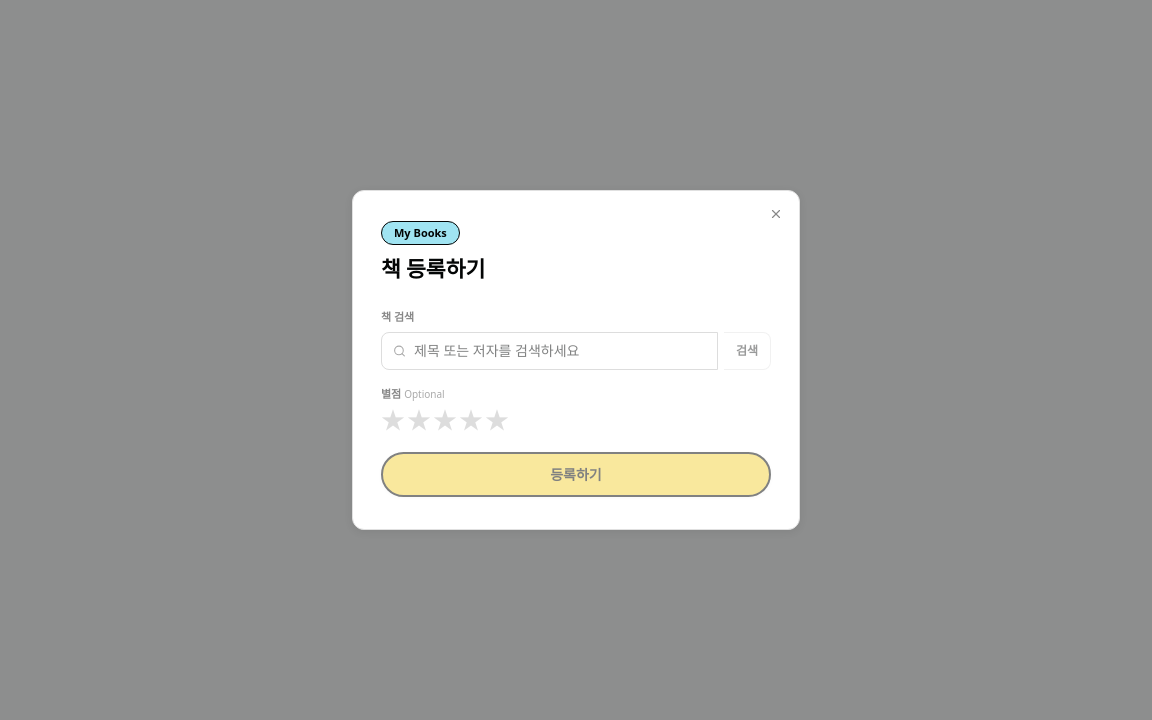
RegisterBookPopup › shows search results dropdown after searching
Type "해리포터" into the field with placeholder "제목 또는 저자를 검색하세요".
click(549, 351); type("해리포터")  # box top-left (381, 332), bottom-right (718, 370)
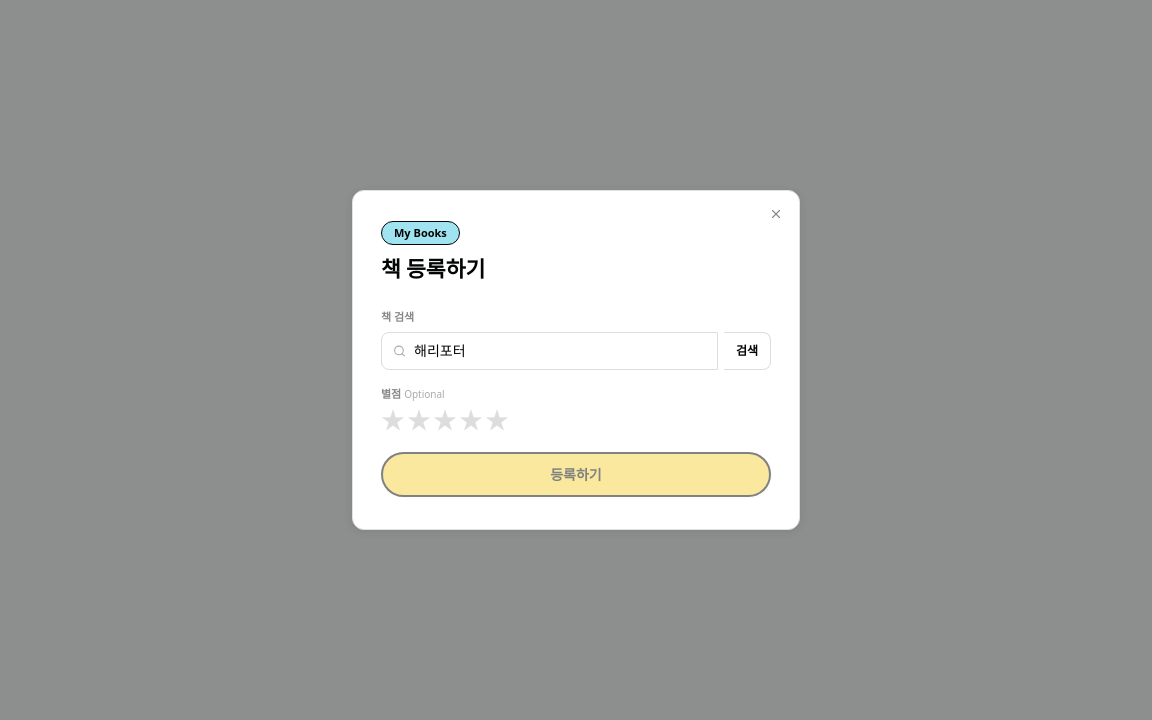
Click the button "검색".
click(747, 351)  # box top-left (724, 332), bottom-right (771, 370)
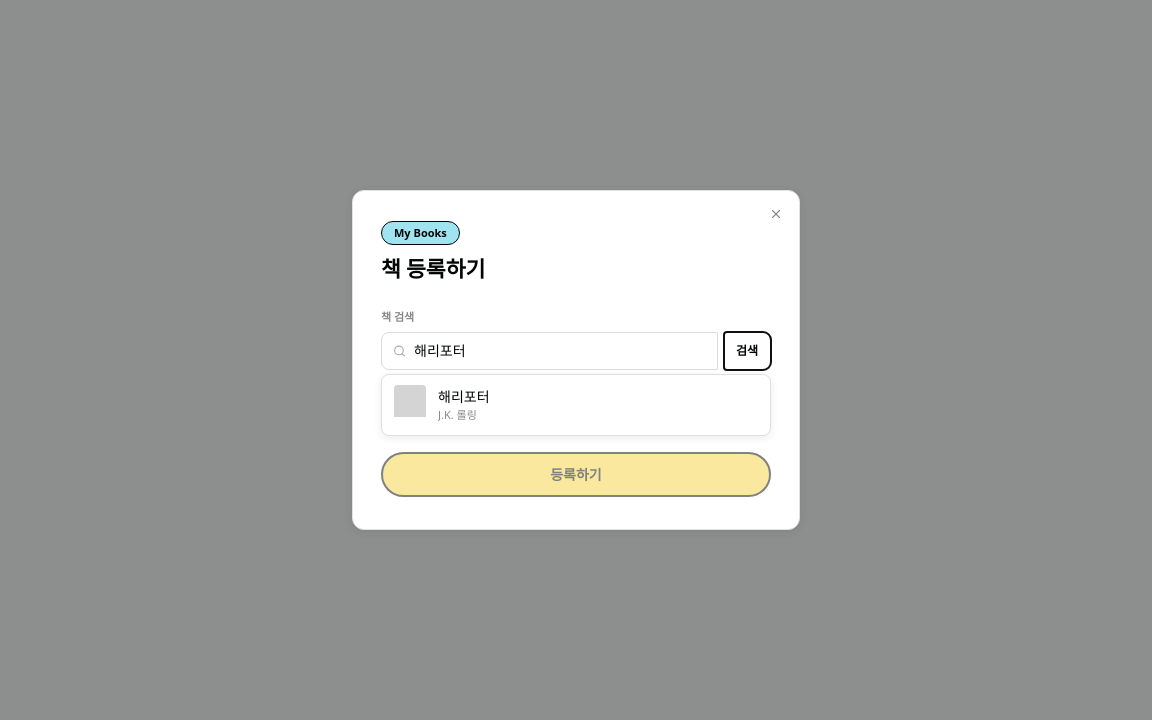
Now the text "해리포터" is shown, box top-left (438, 387), bottom-right (490, 407)
